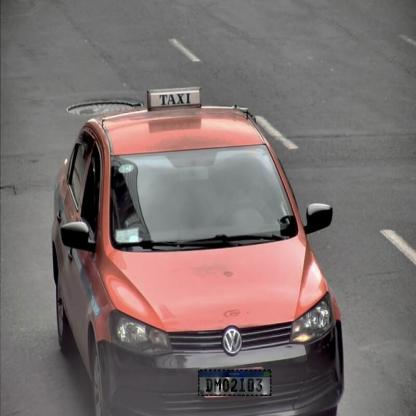PlacaM: (198, 369, 272, 396)
